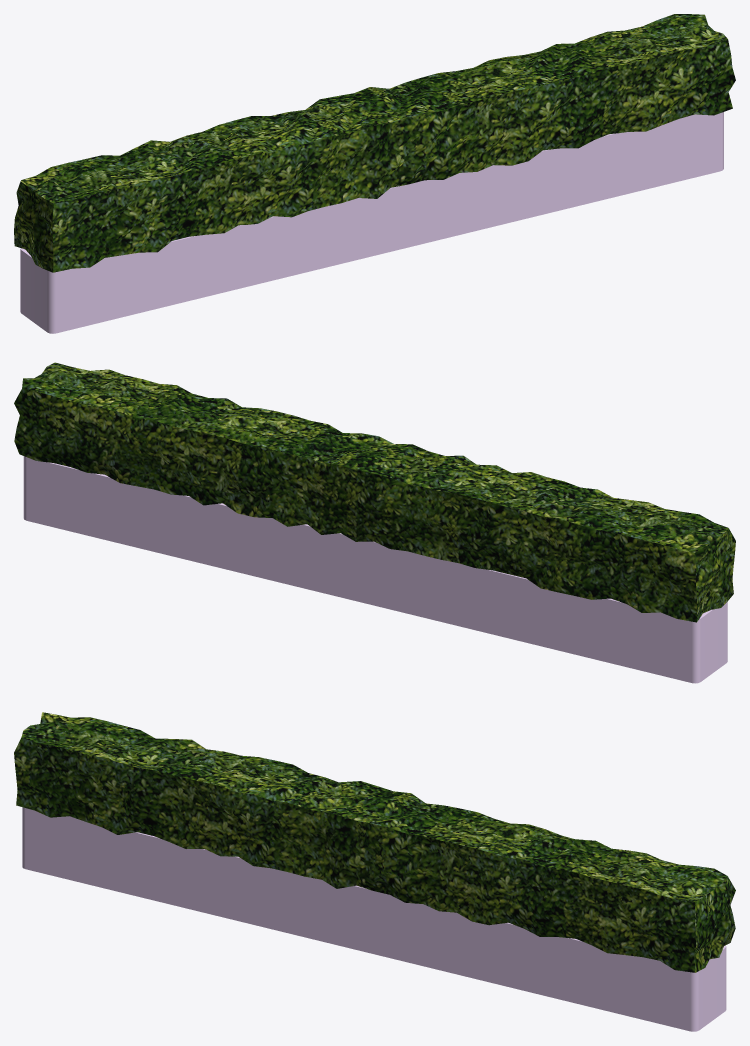
Rendered from wwwunderkammer_Regine_Asset_hedge.glb.
3 renders of one model, top to bottom at view 1: azimuth 30°, elevation 25°; view 2: azimuth 150°, elevation 25°; view 3: azimuth 330°, elevation 25°, orthographic.
Visible parts, largest first — view 1: Hedge; view 2: Hedge; view 3: Hedge.
Boxes of the visible parts, x1,y1,x2,y2 form: Hedge: (14,14,735,333); Hedge: (14,362,735,683); Hedge: (14,712,735,1031).
Bounding box in the file's own units: 11.37 × 2.17 × 1.25.
Materials: 2 (1 with a texture image).
